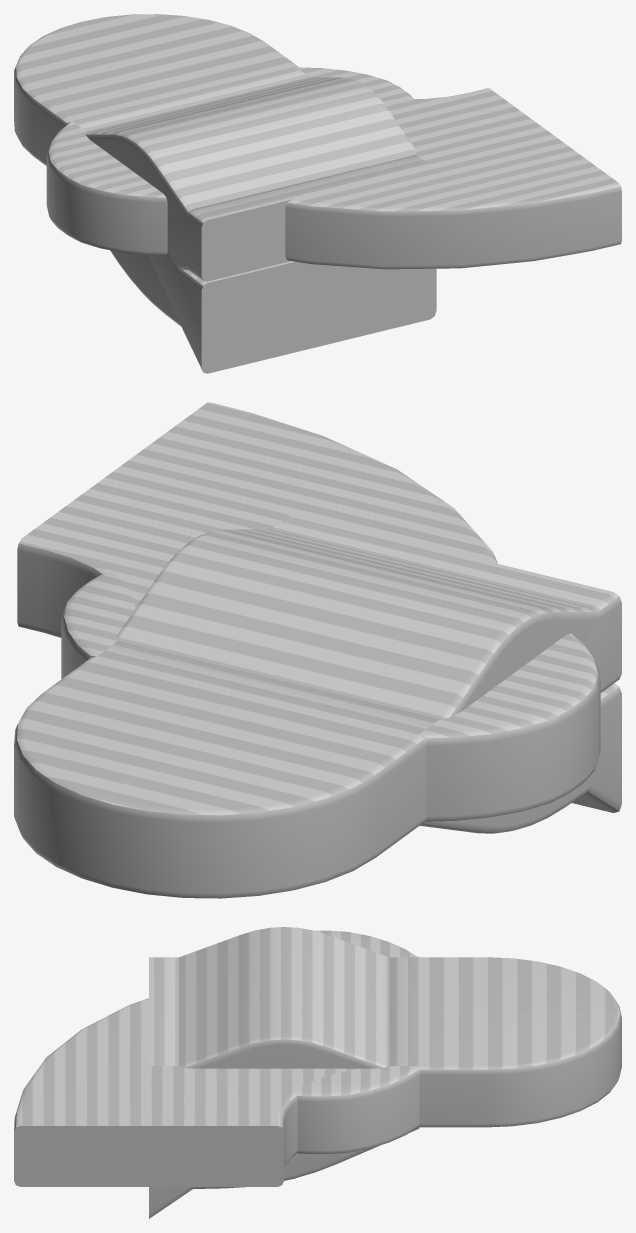
Rendered from Floor_2x4_BothSoft_thick.fbx.
The picture shows the model from 3 angles, top to bottom: view 1: azimuth 30°, elevation 25°; view 2: azimuth 150°, elevation 25°; view 3: azimuth 270°, elevation 25°; orthographic projection. The views are drawn at different scales.
Visible parts, largest first — view 1: Floor_2x4_BS_T_rotate, Floor_2x4_BS_T_hill, Floor_2x4_BS_T_cap, Floor_2x4_BS_T_ramp2, Floor_2x4_BS_T_circle, Floor_2x4_BS_T_deep2, Floor_2x4_BS_T_ramp1, Floor_2x4_BS_T_deep1; view 2: Floor_2x4_BS_T_cap, Floor_2x4_BS_T_hill, Floor_2x4_BS_T_rotate, Floor_2x4_BS_T_circle, Floor_2x4_BS_T_deep2, Floor_2x4_BS_T_ramp2, Floor_2x4_BS_T_ramp1, Floor_2x4_BS_T_deep1; view 3: Floor_2x4_BS_T_rotate, Floor_2x4_BS_T_cap, Floor_2x4_BS_T_hill, Floor_2x4_BS_T_circle, Floor_2x4_BS_T_deep2, Floor_2x4_BS_T_ramp2, Floor_2x4_BS_T_ramp1.
Boxes of the visible parts, x1=… form: Floor_2x4_BS_T_rotate: x1=85, y1=75, x2=621, y2=269; Floor_2x4_BS_T_hill: x1=85, y1=77, x2=416, y2=276; Floor_2x4_BS_T_cap: x1=14, y1=14, x2=297, y2=165; Floor_2x4_BS_T_ramp2: x1=110, y1=250, x2=436, y2=344; Floor_2x4_BS_T_circle: x1=46, y1=66, x2=413, y2=255; Floor_2x4_BS_T_deep2: x1=72, y1=66, x2=430, y2=280; Floor_2x4_BS_T_ramp1: x1=148, y1=251, x2=436, y2=373; Floor_2x4_BS_T_deep1: x1=129, y1=199, x2=292, y2=281; Floor_2x4_BS_T_cap: x1=14, y1=656, x2=426, y2=898; Floor_2x4_BS_T_hill: x1=116, y1=529, x2=621, y2=718; Floor_2x4_BS_T_rotate: x1=17, y1=402, x2=497, y2=732; Floor_2x4_BS_T_circle: x1=61, y1=572, x2=600, y2=821; Floor_2x4_BS_T_deep2: x1=97, y1=513, x2=621, y2=734; Floor_2x4_BS_T_ramp2: x1=420, y1=683, x2=621, y2=833; Floor_2x4_BS_T_ramp1: x1=572, y1=725, x2=621, y2=812; Floor_2x4_BS_T_deep1: x1=584, y1=612, x2=621, y2=692; Floor_2x4_BS_T_rotate: x1=14, y1=998, x2=392, y2=1186; Floor_2x4_BS_T_cap: x1=419, y1=957, x2=621, y2=1127; Floor_2x4_BS_T_hill: x1=179, y1=927, x2=389, y2=1068; Floor_2x4_BS_T_circle: x1=294, y1=930, x2=419, y2=1153; Floor_2x4_BS_T_deep2: x1=149, y1=957, x2=419, y2=1065; Floor_2x4_BS_T_ramp2: x1=192, y1=1124, x2=419, y2=1188; Floor_2x4_BS_T_ramp1: x1=149, y1=1187, x2=192, y2=1218.
Bounding box in the file's own units: 694 × 299 × 900.
